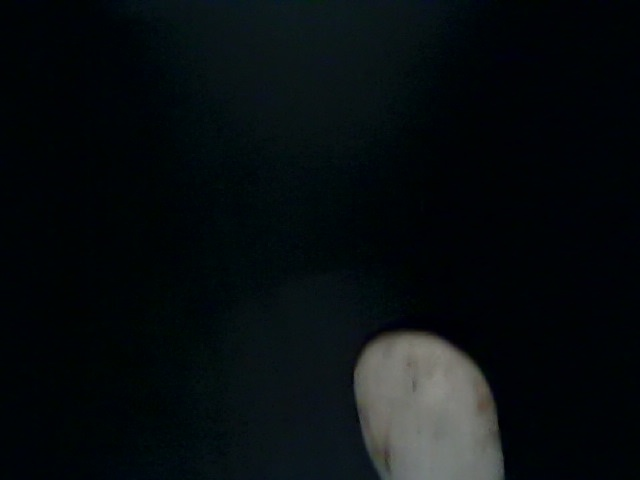QTLJ: (334, 1, 534, 178)
